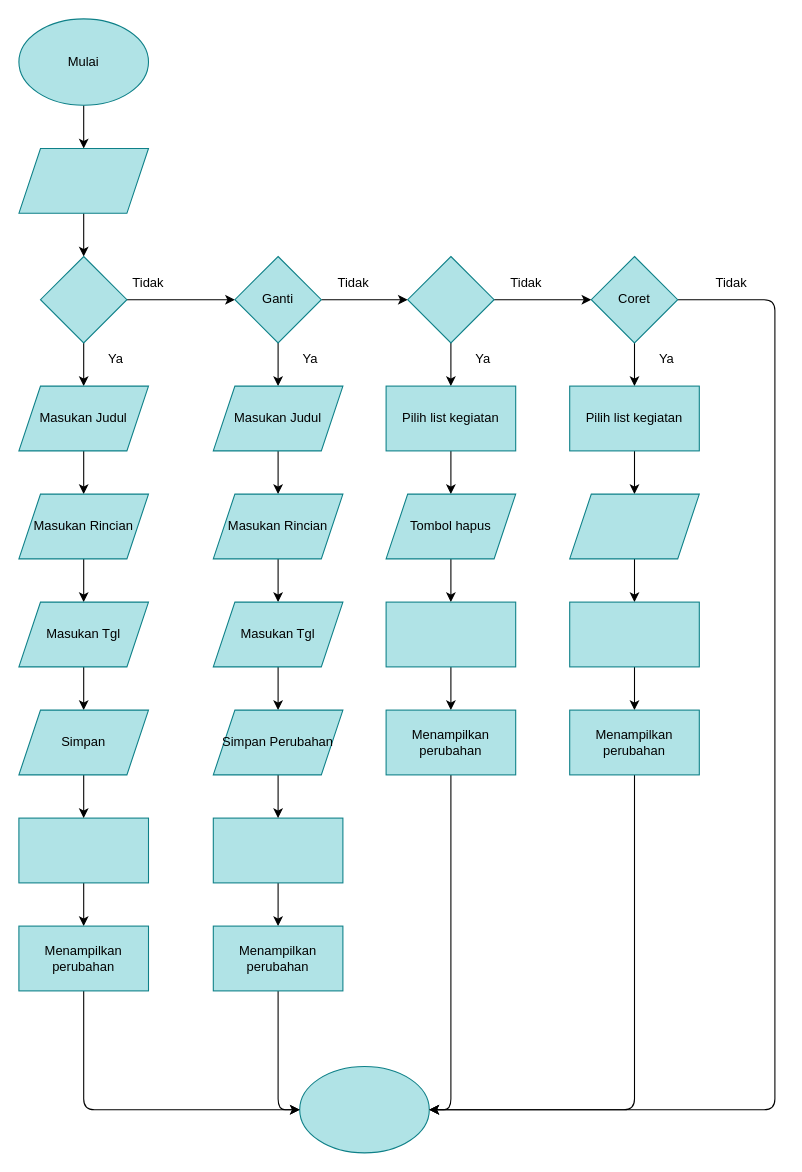
This 802x1172 diagram has some shape labels left out. Here are the shapes that lost their labels. From the top down, the centre of each, then its label:
At (83,180): "Masukan Pilihan".
At (83,299): "Tambah".
At (450,299): "Hapus".
At (634,526): "Checklist kegiatan".
At (450,634): "Meproses penghapusan".
At (634,634): "Memproses pencoretan list".
At (83,850): "Memproses penambahan".
At (277,850): "Memproses perubahan".
At (364,1109): "Selesai".
